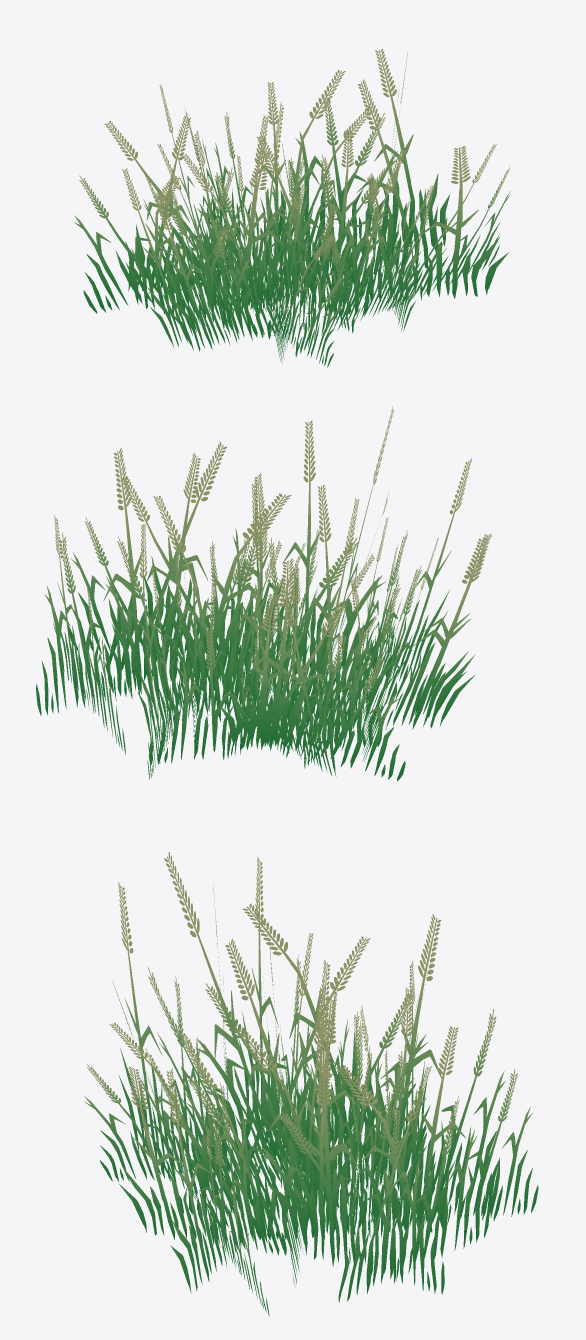
Rendered from bushyGrass.fbx.
The picture shows the model from 3 angles, top to bottom: view 1: azimuth 30°, elevation 25°; view 2: azimuth 150°, elevation 25°; view 3: azimuth 270°, elevation 25°; orthographic projection. The views are drawn at different scales.
Parts seen in each view (by area): view 1: PT_Grass_02_LOD0; view 2: PT_Grass_02_LOD0; view 3: PT_Grass_02_LOD0.
Part boxes in pixels (x1,y1,x2,y2): PT_Grass_02_LOD0: (74,49,510,367); PT_Grass_02_LOD0: (36,406,491,781); PT_Grass_02_LOD0: (84,852,538,1316).
Size of what is drawn, in the model's own units: 124 by 68.42 by 99.38.
